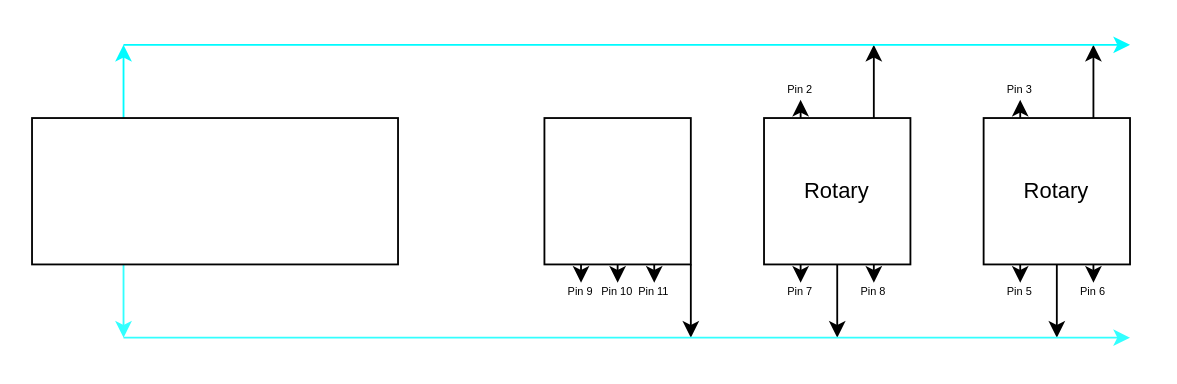
This 1177x384 diagram has some shape labels left out. Here are the shapes that lost their labels. From the top down, the box of each, then its label:
(30, 116, 398, 264): Teensy
(543, 116, 691, 264): RGB
